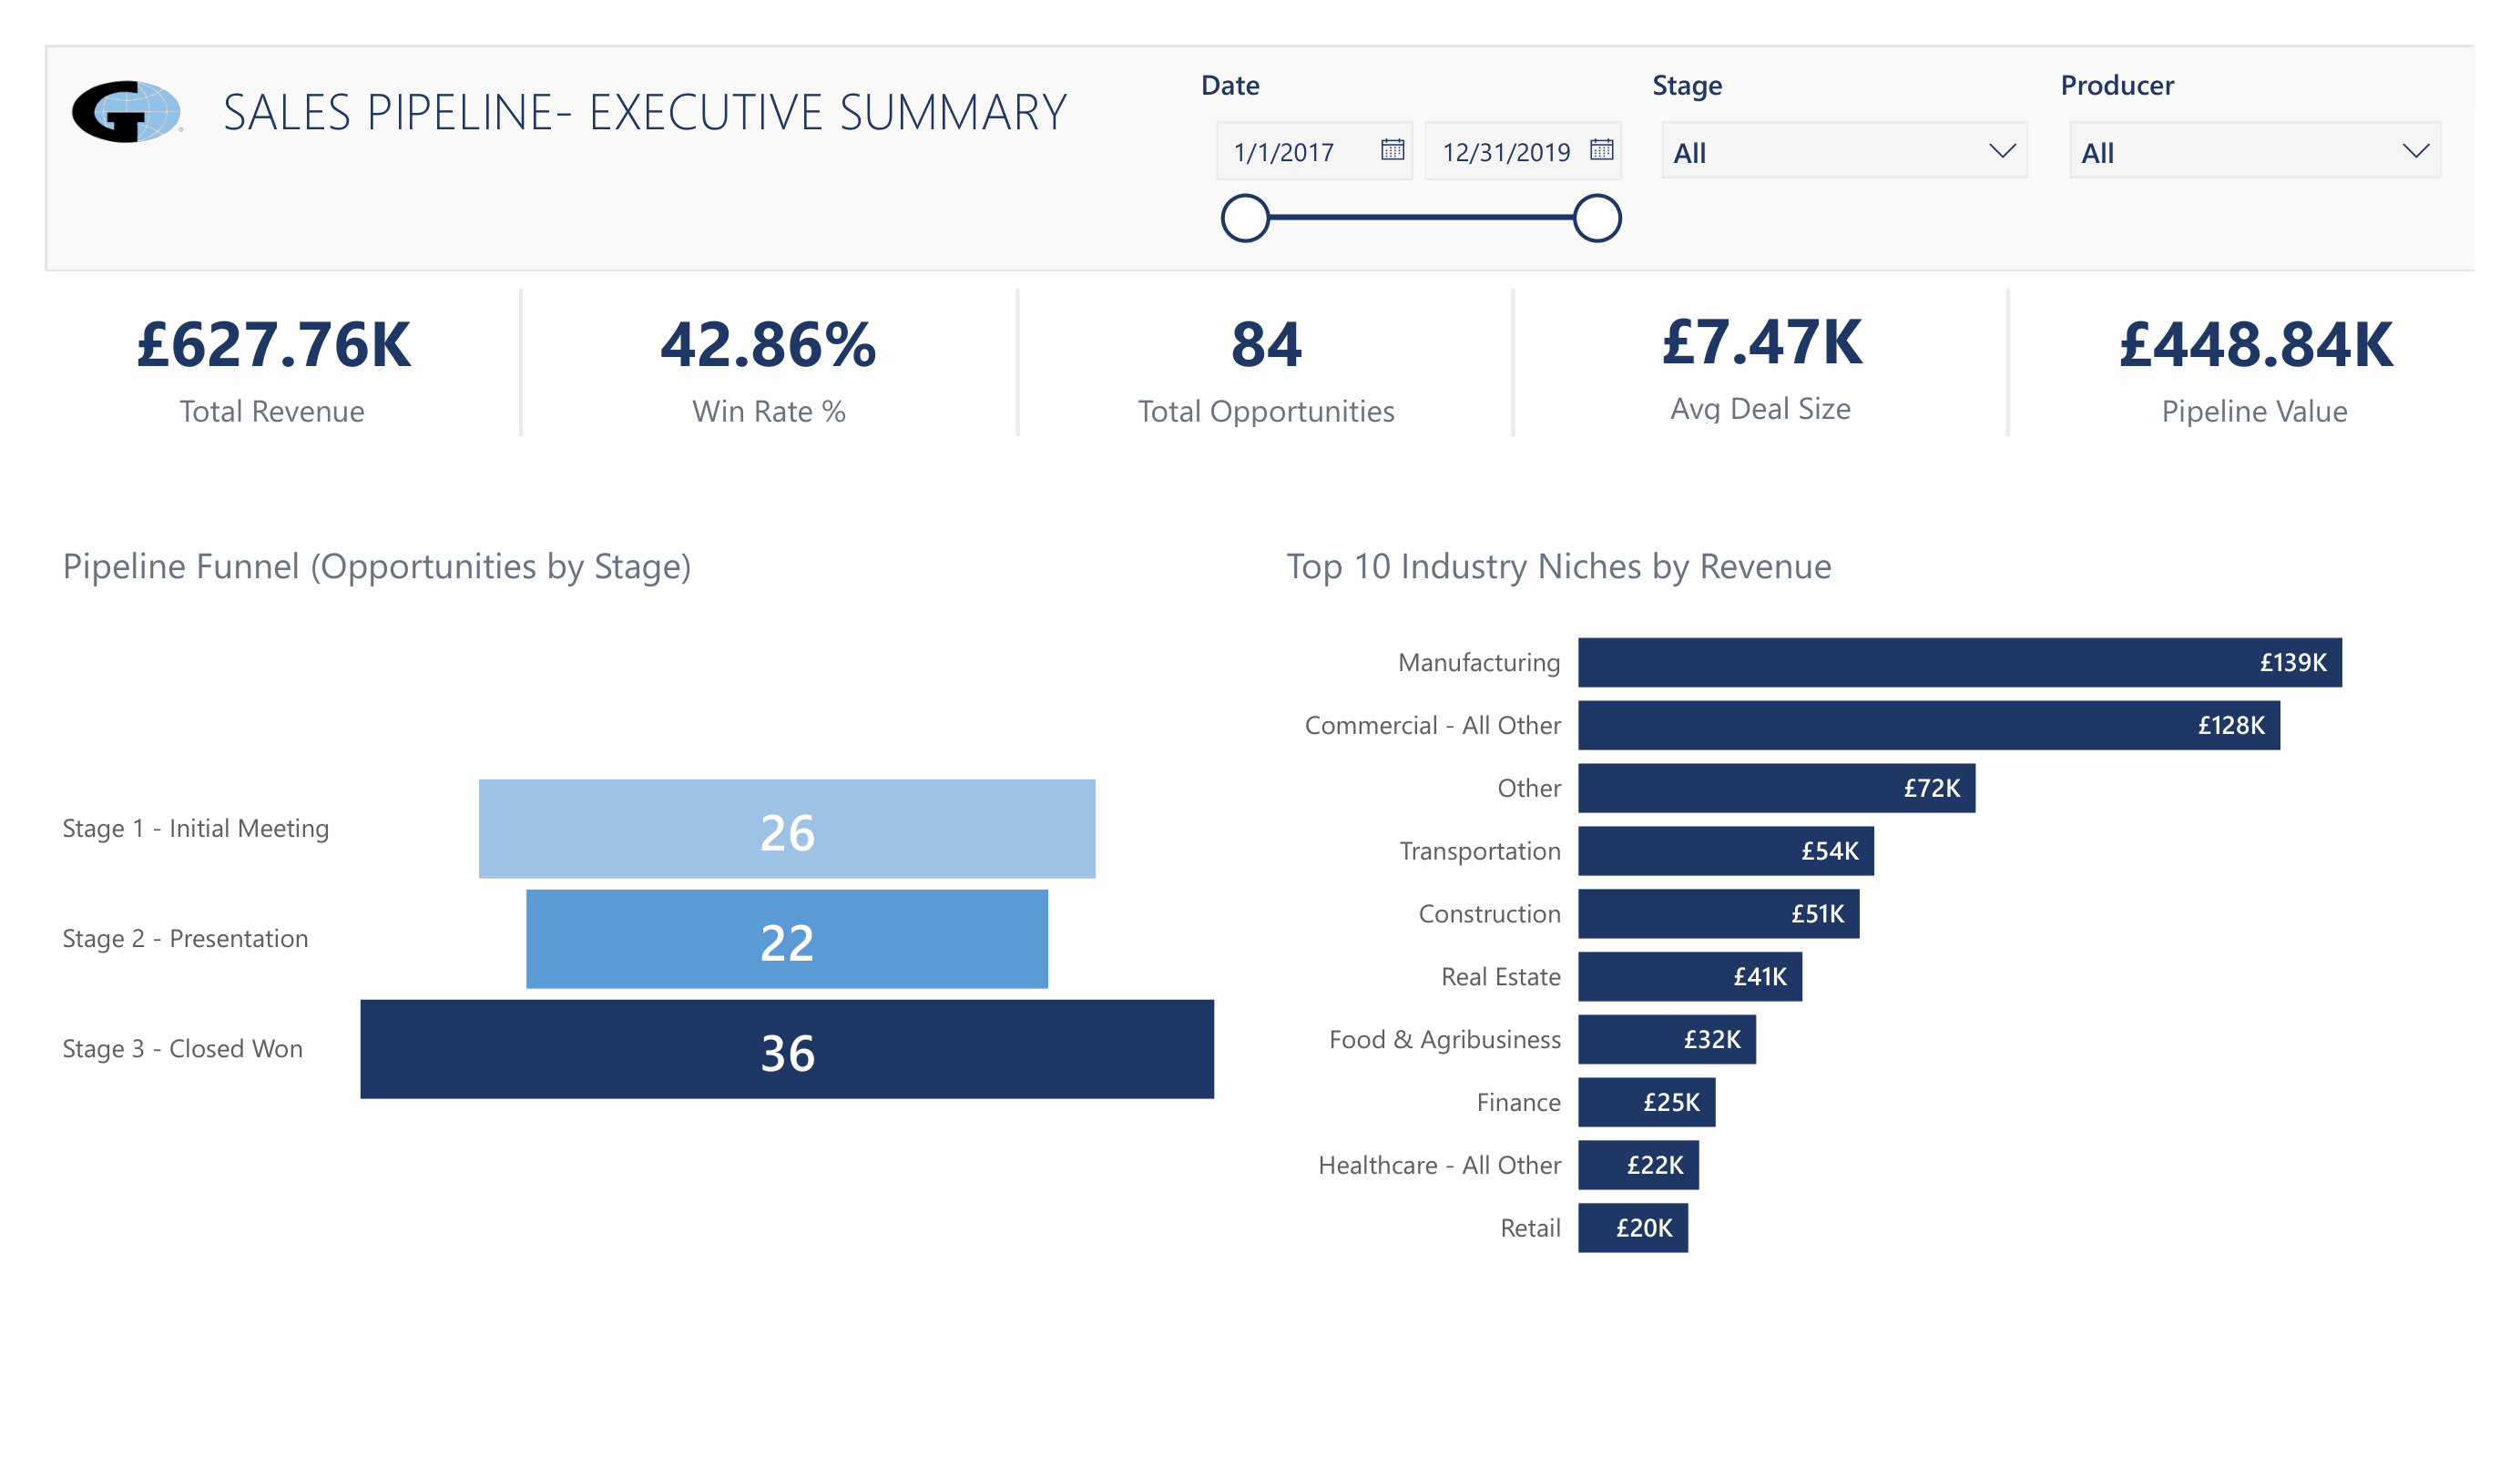

The dashboard page shown, as its layout file describes it:
{"tool":"powerbi","page":{"name":"Executive Summary ","canvas":[1280,720],"ordinal":0},"visuals":[{"type":"shape","box":[0,0,1434.3,119.1],"z":0,"group":"g2"},{"type":"card","fields":{"Values":["_Measures.Total Revenue"]},"box":[4.3,128,231,78],"z":0},{"type":"textbox","box":[87.9,9.9,467.7,49.6],"z":1000,"group":"g2"},{"type":"card","fields":{"Values":["_Measures.Win Rate %"]},"box":[266,128,231,78],"z":1000},{"type":"funnel","title":"Pipeline Funnel (Opportunities by Stage)","fields":{"Category":["Dim_Stage.Stage_Name"],"Y":["_Measures.Total Opportunities"]},"box":[4.3,260.8,622.2,394],"z":2000},{"type":"card","fields":{"Values":["_Measures.Total Opportunities"]},"box":[527.8,128,231,78],"z":3000},{"type":"slicer","title":"Date","fields":{"Values":["Calendar.Date"]},"box":[603.8,9.9,235,102],"z":4000,"group":"g3"},{"type":"clusteredBarChart","title":"Top 10 Industry Niches by Revenue","fields":{"Y":["_Measures.Total Revenue"],"Category":["Fact_Opportunities.Niche_Affiliations"]},"box":[649.1,260.8,620.8,394],"z":4000},{"type":"card","fields":{"Values":["_Measures.Avg Deal Size"]},"box":[788.1,127.2,231.4,77.1],"z":5000},{"type":"card","fields":{"Values":["_Measures.Pipeline Value"]},"box":[1048.9,127.6,231,78],"z":6000},{"type":"shape","box":[241.5,128,18.4,78],"z":7000},{"type":"shape","box":[765,128,17,78],"z":8000},{"type":"shape","box":[503.2,128,18.4,78],"z":9000},{"type":"slicer","title":"Producer","fields":{"Values":["Dim_Producers.Primary_Producer"]},"box":[1057.3,9.9,215.4,102],"z":10000,"group":"g2"},{"type":"shape","box":[1025.7,128,17,78],"z":10000},{"type":"group","id":"g1","title":"Group 2","box":[0,0,1434.3,119.1],"z":11000},{"type":"slicer","title":"Stage","fields":{"Values":["Dim_Stage.Stage_Name"]},"box":[842.5,9.9,212.6,102],"z":11000,"group":"g2"},{"type":"group","id":"g2","title":"Group 3","box":[0,0,1434.3,119.1],"z":11001,"group":"g1"},{"type":"group","id":"g3","title":"Group 1","box":[603.8,9.9,235,102],"z":12000,"group":"g2"},{"type":"image","box":[1.4,0,82.2,70],"z":12500,"group":"g2"}]}

Visuals, with their boxes on the page's 1280x720 design canvas (x1, y1, x2, y2). These are canvas units, not pixel positions in the 2520x1457 screenshot, which may show the page scaled, cropped or inside an application window:
shape: crop(0, 0, 1434, 119)
card - _Measures.Total Revenue: crop(4, 128, 235, 206)
textbox: crop(88, 10, 556, 60)
card - _Measures.Win Rate %: crop(266, 128, 497, 206)
"Pipeline Funnel (Opportunities by Stage)" funnel: crop(4, 261, 626, 655)
card - _Measures.Total Opportunities: crop(528, 128, 759, 206)
"Date" slicer: crop(604, 10, 839, 112)
"Top 10 Industry Niches by Revenue" clusteredBarChart: crop(649, 261, 1270, 655)
card - _Measures.Avg Deal Size: crop(788, 127, 1020, 204)
card - _Measures.Pipeline Value: crop(1049, 128, 1280, 206)
shape: crop(242, 128, 260, 206)
shape: crop(765, 128, 782, 206)
shape: crop(503, 128, 522, 206)
"Producer" slicer: crop(1057, 10, 1273, 112)
shape: crop(1026, 128, 1043, 206)
"Group 2" group: crop(0, 0, 1434, 119)
"Stage" slicer: crop(842, 10, 1055, 112)
"Group 3" group: crop(0, 0, 1434, 119)
"Group 1" group: crop(604, 10, 839, 112)
image: crop(1, 0, 84, 70)
